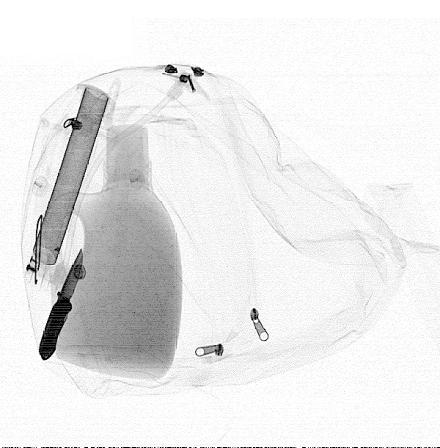Knife: (38, 246, 83, 361)
